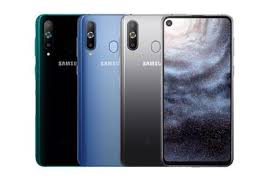samsung: (118, 13, 236, 168), (162, 13, 235, 168)
